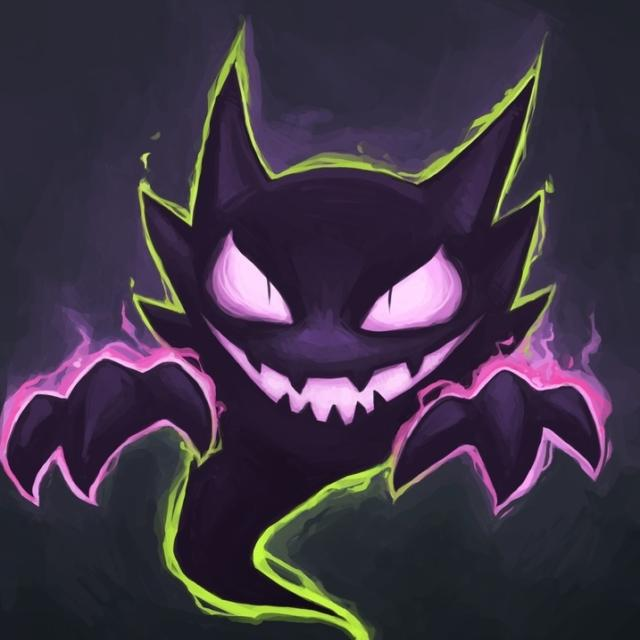Haunter: (71, 94, 594, 493)
